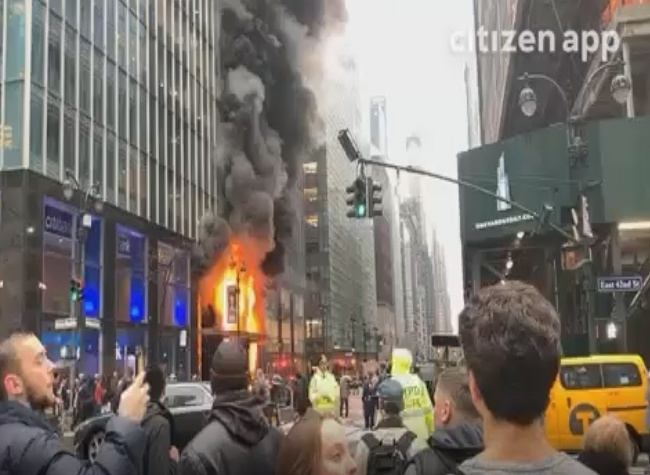Fire: (214, 267, 263, 339)
Smoke: (222, 131, 294, 247), (229, 5, 299, 123)
